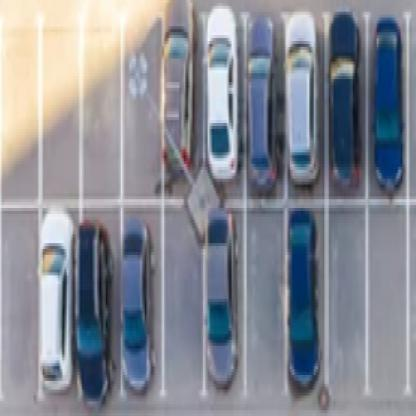Car: (288, 216, 319, 367), (39, 218, 68, 372), (333, 19, 359, 173), (252, 34, 278, 188), (208, 32, 237, 170), (124, 223, 149, 383), (289, 20, 316, 166), (82, 223, 107, 377), (372, 227, 398, 366), (375, 26, 399, 173), (211, 224, 233, 378), (167, 46, 192, 170)
Empty: (126, 43, 158, 176), (171, 244, 200, 381), (48, 50, 79, 176), (250, 243, 279, 376), (6, 234, 33, 372), (88, 40, 115, 164), (8, 51, 31, 184), (336, 248, 358, 350)
